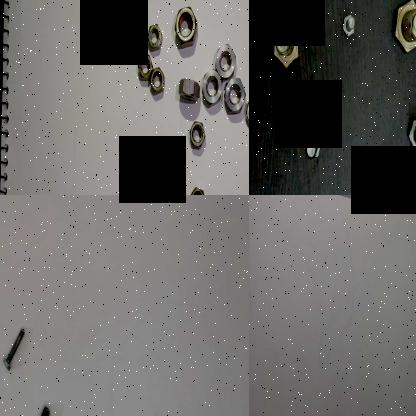Bolts: (387, 0, 416, 60), (298, 117, 324, 167), (0, 327, 26, 375), (338, 10, 362, 48), (404, 106, 416, 162), (24, 404, 54, 416), (328, 195, 362, 203)
NUTS: (222, 75, 248, 123), (172, 4, 198, 46), (200, 70, 226, 110), (135, 143, 159, 185), (214, 42, 238, 80), (135, 46, 157, 82), (176, 76, 204, 104), (144, 20, 165, 54), (190, 118, 208, 156), (148, 66, 166, 98), (243, 97, 249, 131), (187, 185, 207, 195)
